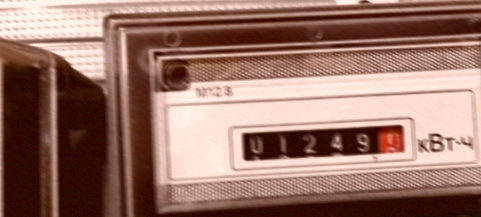0: (249, 134, 264, 154)
1: (276, 132, 289, 154)
2: (301, 132, 318, 155)
4: (330, 131, 344, 151)
7: (383, 125, 397, 145)
9: (356, 131, 370, 153)
screen: (226, 113, 419, 173)
